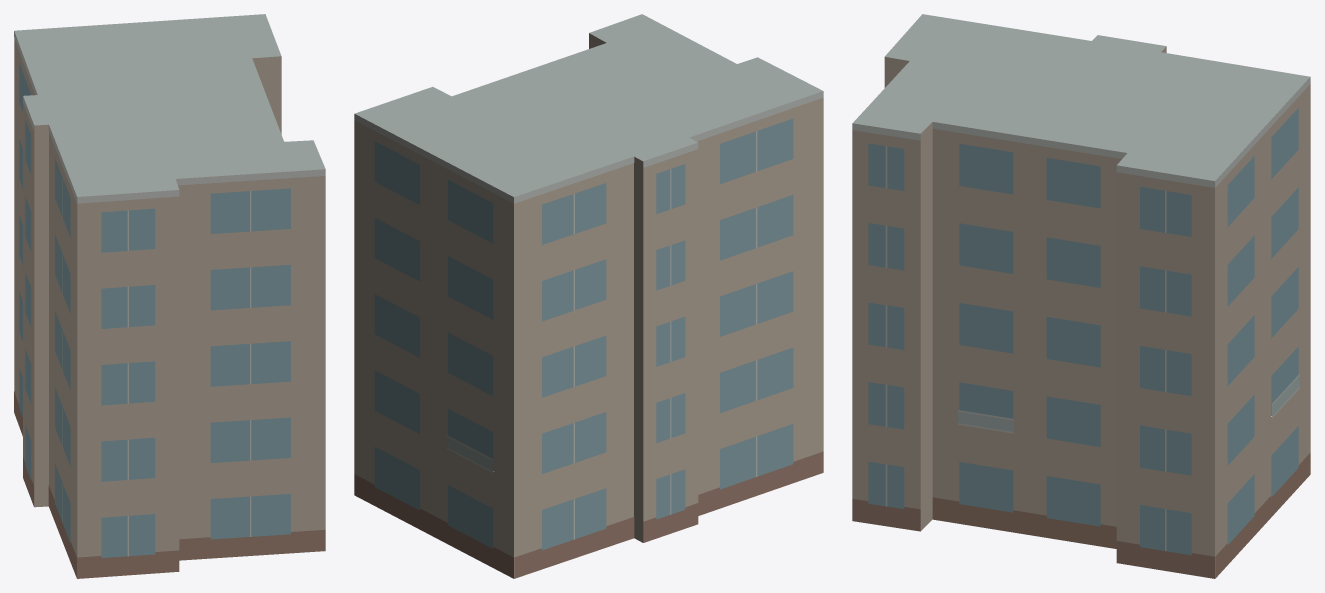
The model's file is survey-upis-32875016.glb.
3 renders of one model, left to right at view 1: azimuth 30°, elevation 25°; view 2: azimuth 150°, elevation 25°; view 3: azimuth 270°, elevation 25°, orthographic. The views are drawn at different scales.
Parts seen in each view (by area): view 1: survey-upis-32875016.tmp; view 2: survey-upis-32875016.tmp; view 3: survey-upis-32875016.tmp.
Part boxes in pixels (x1,y1,x2,y2): survey-upis-32875016.tmp: (14, 14, 325, 578); survey-upis-32875016.tmp: (354, 14, 823, 578); survey-upis-32875016.tmp: (852, 14, 1310, 578).
Bounding box in the file's own units: 12.81 × 14.2 × 14.83.
